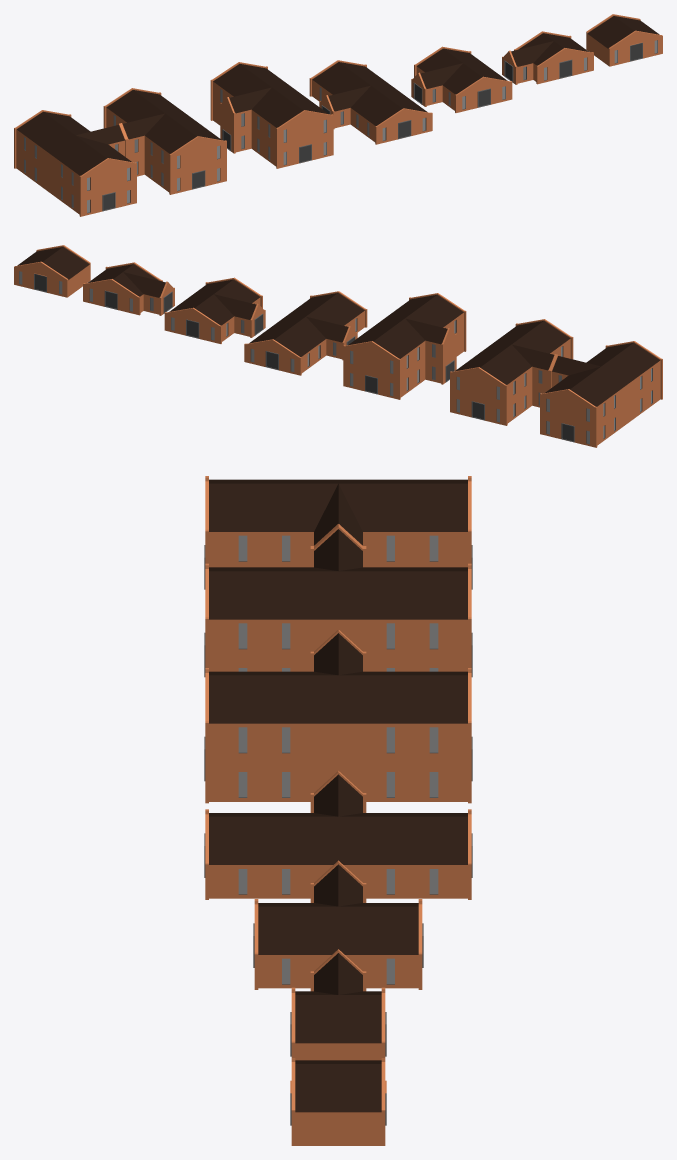
The model's file is Factories.fbx.
3 views of the same model, one above another, from view 1: azimuth 30°, elevation 25°; view 2: azimuth 150°, elevation 25°; view 3: azimuth 270°, elevation 25° (orthographic). The views are drawn at different scales.
Parts seen in each view (by area): view 1: Factory LVL5.001, Factory LVL5, Factory LVL4, Factory LVL3, Factory LVL2, Factory LVL1; view 2: Factory LVL5.001, Factory LVL5, Factory LVL4, Factory LVL3, Factory LVL2, Factory LVL1; view 3: Factory LVL5.001, Factory LVL5, Factory LVL4, Factory LVL3, Factory LVL2, Factory LVL1.
Boxes of the visible parts, x1=… form: Factory LVL5.001: x1=14, y1=88, x2=226, y2=216; Factory LVL5: x1=210, y1=62, x2=333, y2=168; Factory LVL4: x1=309, y1=60, x2=432, y2=144; Factory LVL3: x1=411, y1=46, x2=512, y2=112; Factory LVL2: x1=502, y1=31, x2=593, y2=84; Factory LVL1: x1=586, y1=14, x2=662, y2=66; Factory LVL5.001: x1=450, y1=319, x2=662, y2=447; Factory LVL5: x1=343, y1=293, x2=466, y2=399; Factory LVL4: x1=244, y1=291, x2=367, y2=375; Factory LVL3: x1=164, y1=277, x2=265, y2=343; Factory LVL2: x1=83, y1=262, x2=174, y2=315; Factory LVL1: x1=14, y1=245, x2=90, y2=297; Factory LVL5.001: x1=204, y1=476, x2=472, y2=677; Factory LVL5: x1=204, y1=629, x2=472, y2=803; Factory LVL4: x1=204, y1=771, x2=472, y2=899; Factory LVL3: x1=253, y1=860, x2=423, y2=989; Factory LVL2: x1=290, y1=949, x2=386, y2=1060; Factory LVL1: x1=290, y1=1058, x2=386, y2=1145.
Bounding box in the file's own units: 11319 × 920 × 2180.
